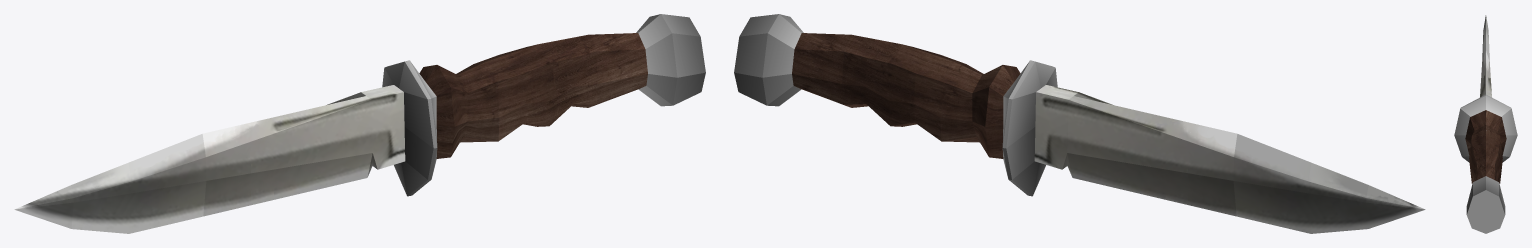
File: cucho.fbx
3 renders of one model, left to right at view 1: azimuth 30°, elevation 25°; view 2: azimuth 150°, elevation 25°; view 3: azimuth 270°, elevation 25°, orthographic. The views are drawn at different scales.
Visible parts, largest first — view 1: Cube; view 2: Cube; view 3: Cube.
Boxes of the visible parts, left/top/right/bottom form: Cube: left=14, top=14, right=705, bottom=233; Cube: left=734, top=14, right=1425, bottom=233; Cube: left=1454, top=15, right=1517, bottom=233.
Size of the model in its own units: 520 by 100 by 72.6.
